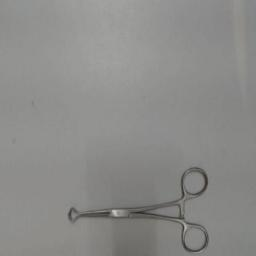Babcock Tissue Forceps: (66, 164, 210, 254)
